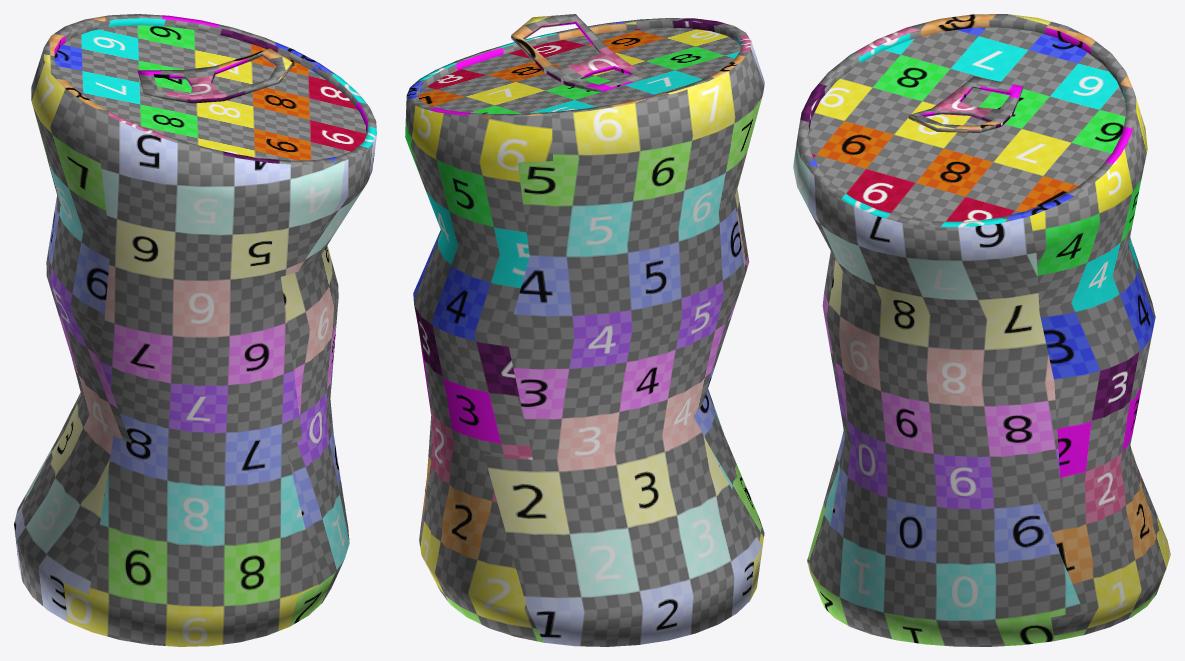
The model's file is can3.fbx.
The picture shows the model from 3 angles, left to right: view 1: azimuth 30°, elevation 25°; view 2: azimuth 150°, elevation 25°; view 3: azimuth 270°, elevation 25°; orthographic projection. The views are drawn at different scales.
Parts seen in each view (by area): view 1: Can 2; view 2: Can 2; view 3: Can 2.
Boxes of the visible parts, x1,y1,x2,y2 form: Can 2: (14,14,376,646); Can 2: (405,14,764,646); Can 2: (793,14,1170,646).
Size of the model in its own units: 149 by 245 by 159.
